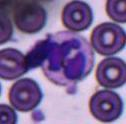N: (36, 31, 93, 84)
